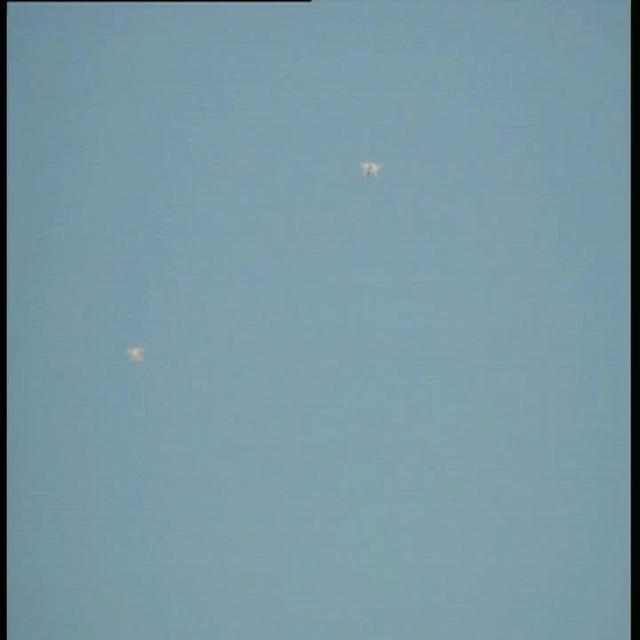drone: (119, 338, 152, 368), (354, 156, 386, 182)
